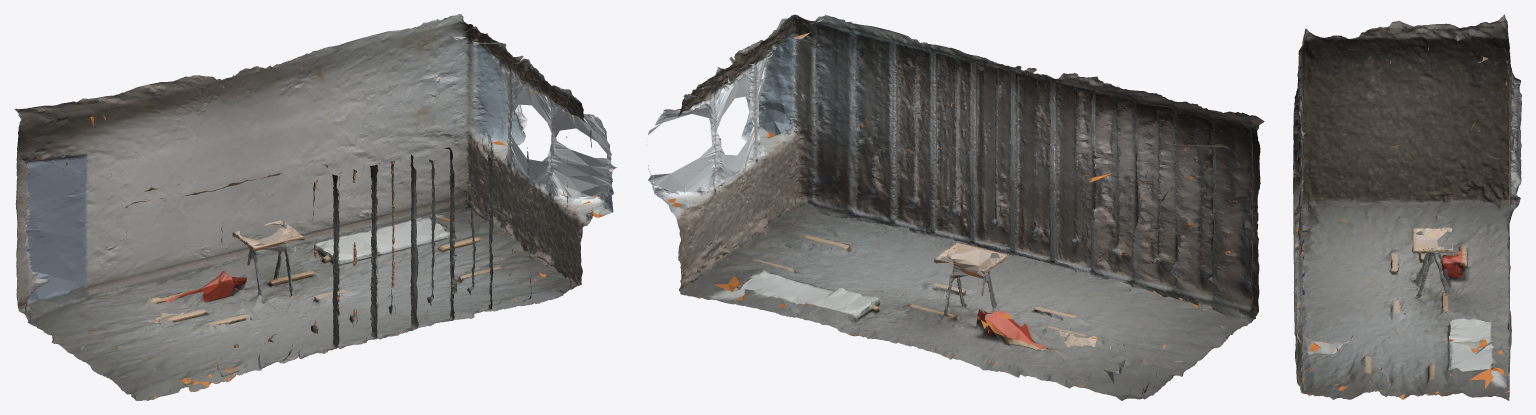
3 views of the same model, side by side, from view 1: azimuth 30°, elevation 25°; view 2: azimuth 150°, elevation 25°; view 3: azimuth 270°, elevation 25° (orthographic). The views are drawn at different scales.
Parts seen in each view (by area): view 1: textured.obj; view 2: textured.obj; view 3: textured.obj.
Part boxes in pixels (<box>): textured.obj: <box>14,14,616,400</box>; textured.obj: <box>646,14,1264,400</box>; textured.obj: <box>1293,14,1521,400</box>.
Bounding box in the file's own units: 8.01 × 3.3 × 3.54.
Materials: 1 (1 with a texture image).
